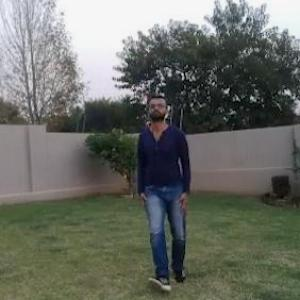follow: (133, 83, 194, 288)
